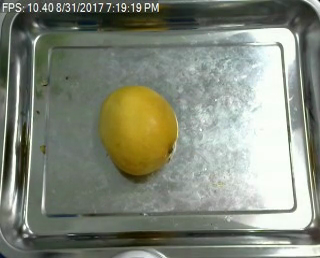Mango: (102, 86, 178, 176)
